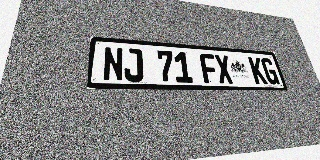1: (173, 51, 193, 83)
7: (156, 50, 176, 82)
F: (199, 53, 219, 83)
G: (260, 58, 280, 84)
J: (124, 48, 144, 82)
K: (248, 57, 268, 84)
N: (103, 46, 123, 81)
X: (214, 54, 234, 84)
